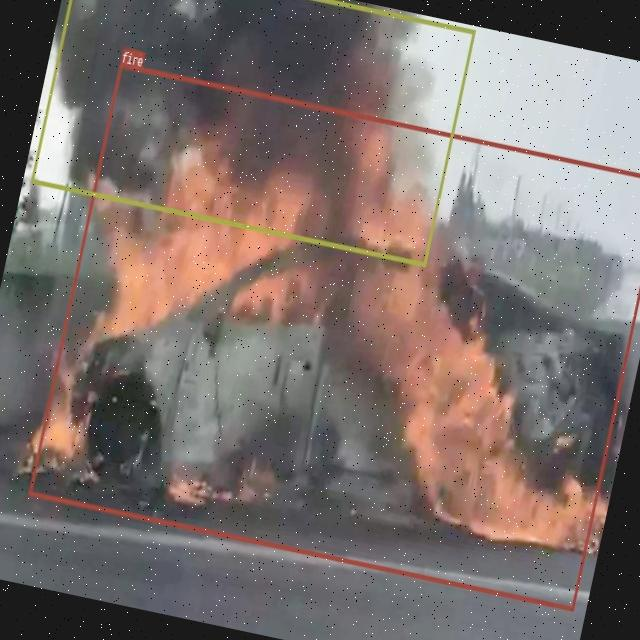fire: (28, 62, 640, 610)
smoke: (29, 0, 475, 266)
